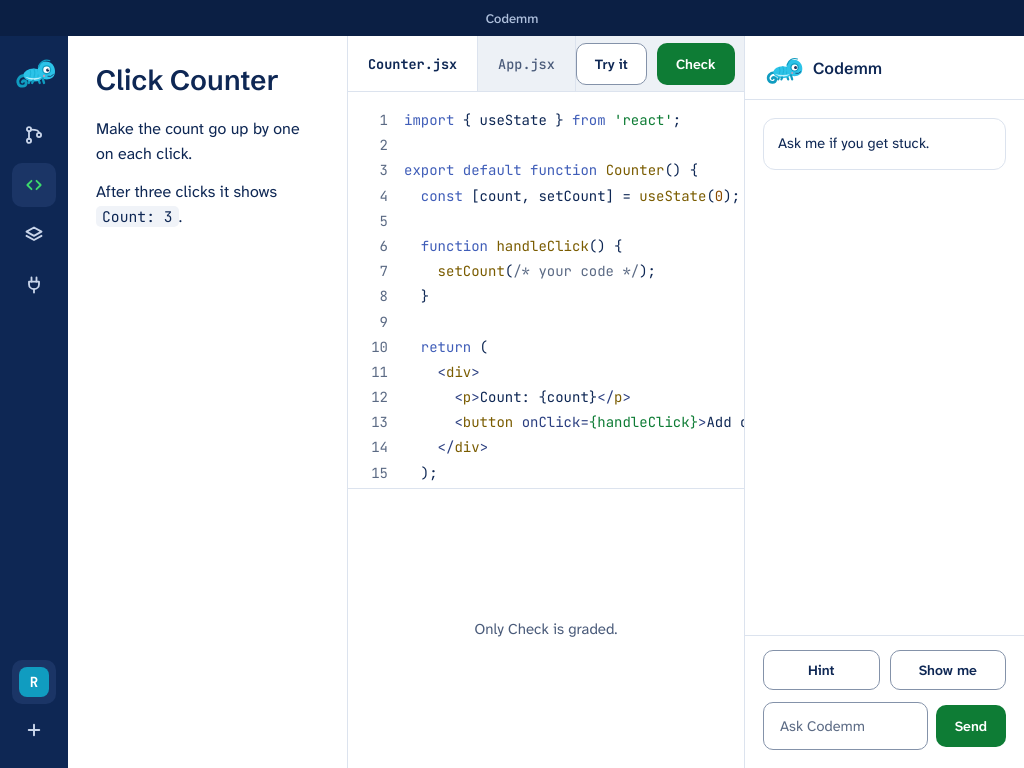
it: practice › reloads a file that changed outside Codemm
The image size is (1024, 768).
Expected: the heading "Click Counter" is shown, [96,63,279,97]
Type "x" into the text box named "Counter.jsx".
click(644, 322); type("x")  # box [404,108,884,536]
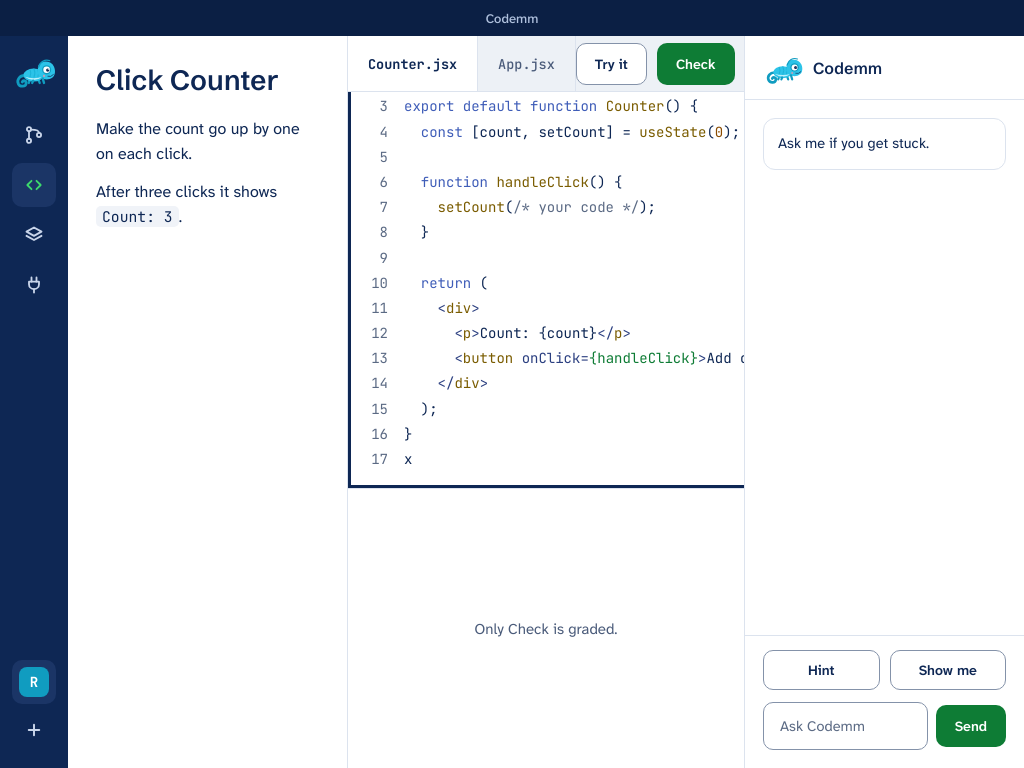
Click the button "Try it".
click(611, 64)  # box [576,42,647,84]
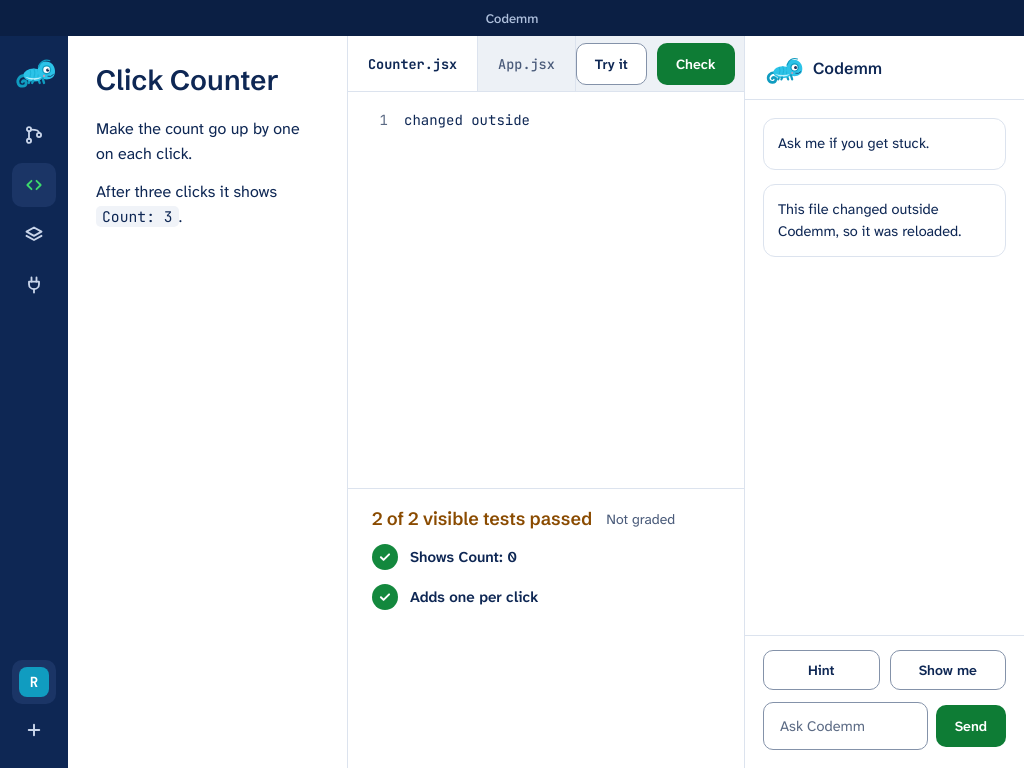
Expected: the text "This file changed outside Codemm, so it was reloaded." is shown, [778,199,991,242]
Expected: the text box named "Counter.jsx" holds "changed outside", [404,108,744,133]
